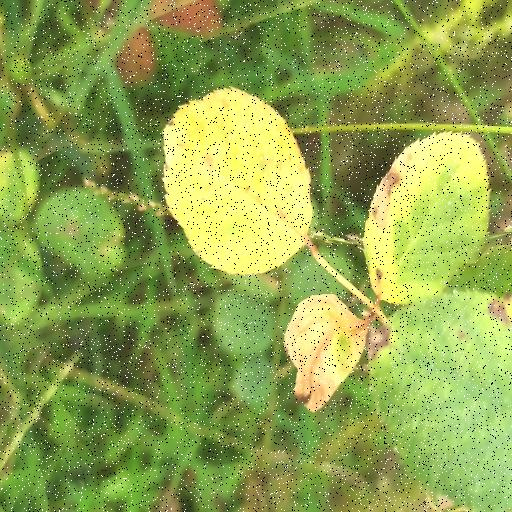healthy_leaf: (370, 292, 512, 512)
thrip: (163, 88, 312, 274), (364, 132, 490, 304), (284, 294, 368, 412)
